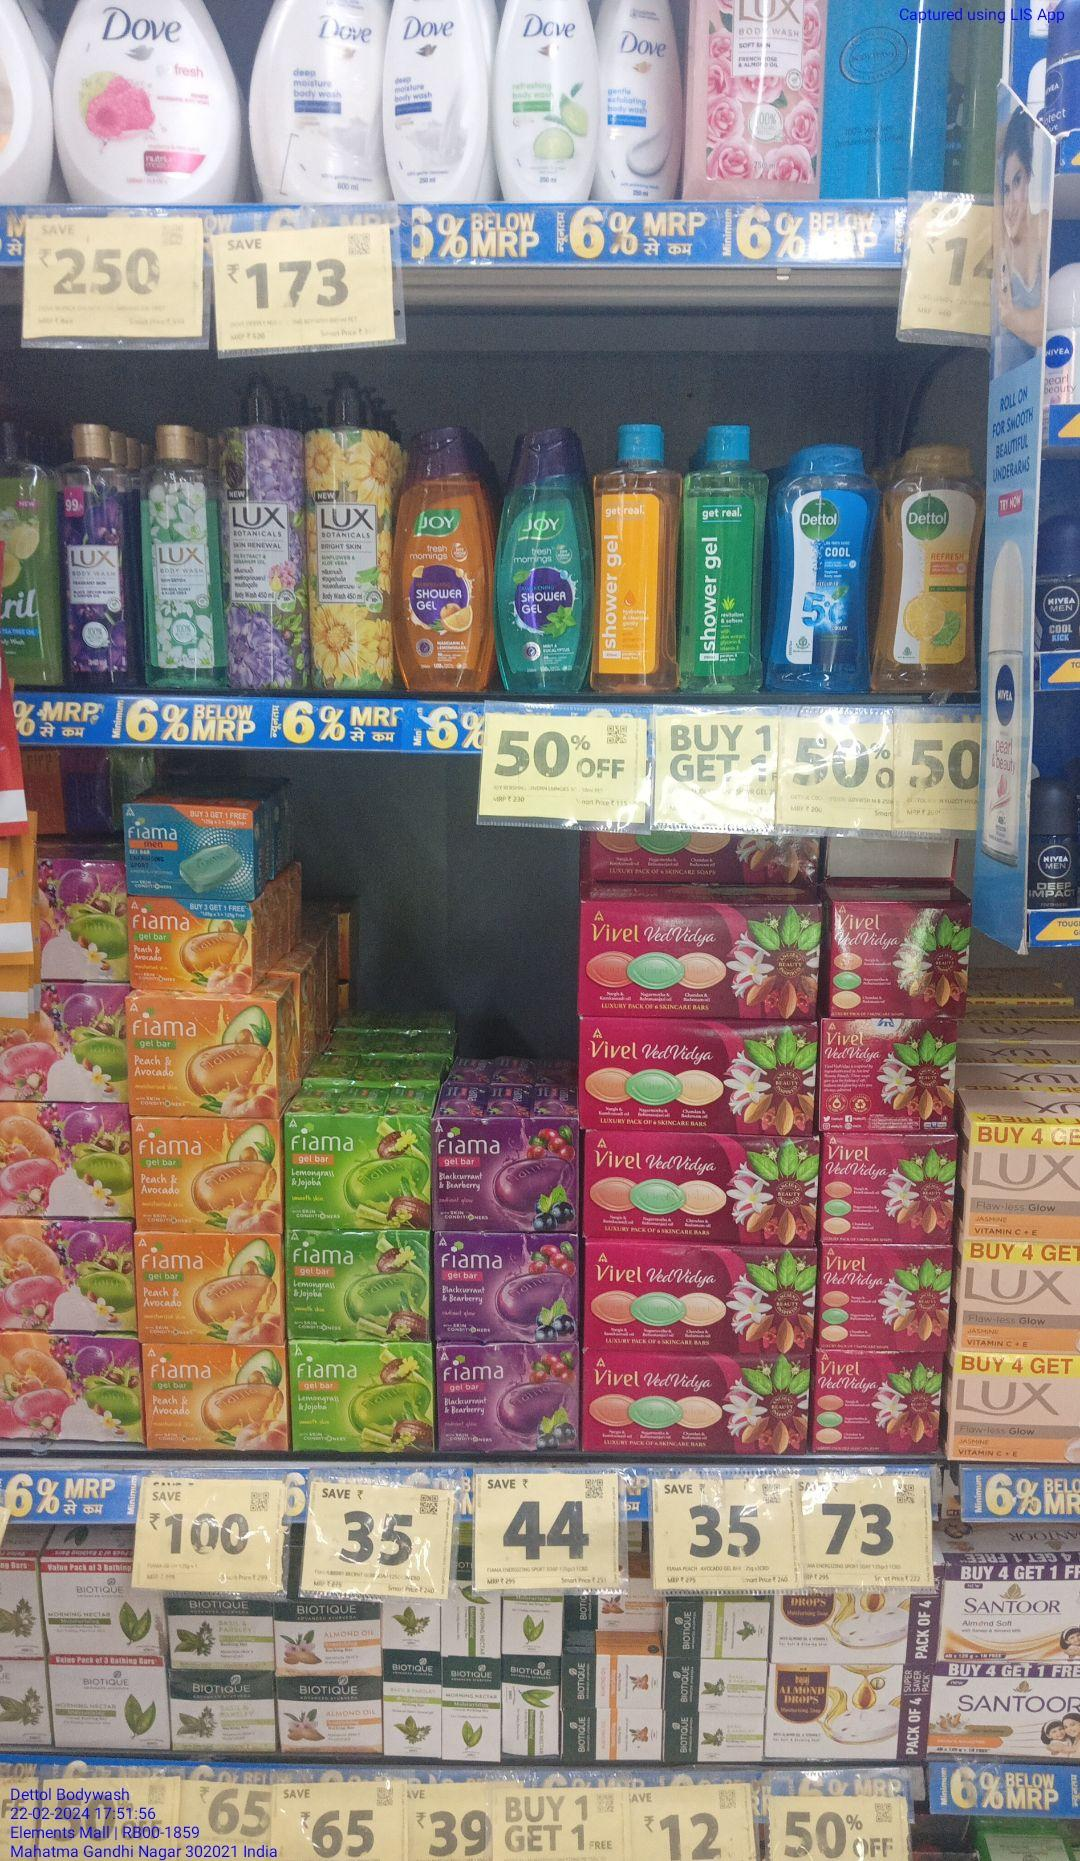Dettol_Bodywash_Cool: (770, 446, 870, 695)
Dettol_Bodywash_Refresh: (873, 436, 982, 695)
Joy_Shower_Gel_Mandarin_and_Lemongrass_250ML: (391, 418, 492, 697)
Joy_Shower_Gel_Mint_and_Eucalyptus_250ML: (491, 423, 590, 699)
Lux_Black_Orchid_Scent_and_Juniper_Oil_Body_Wash_245ML: (64, 419, 138, 689)
Lux_Body_Wash_Skin_Detox_Freesia_Scent_and_Alove_Vera_245ML: (143, 422, 225, 689)
